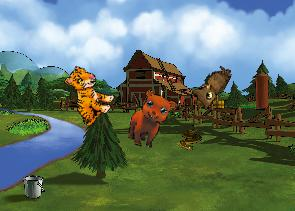bear: (125, 87, 178, 153)
owl: (187, 58, 233, 112)
tiger: (51, 62, 121, 130)
